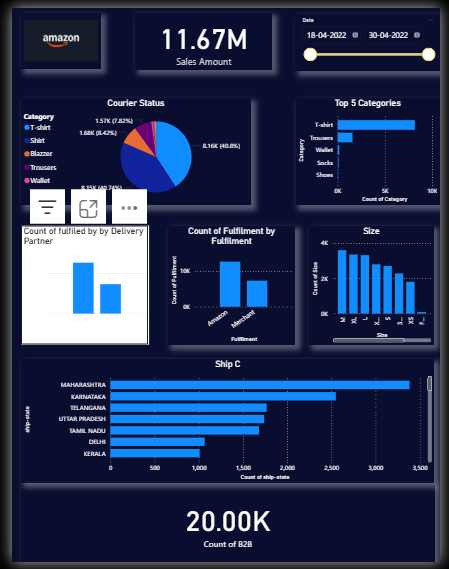

The page's visual inventory and layout, read from the dashboard file:
{"tool":"powerbi","page":{"name":"Page 1","canvas":[816,1056],"ordinal":0},"visuals":[{"type":"image","box":[16.3,9.8,152.2,107.6],"z":0},{"type":"card","fields":{"Values":["Sum(Amazon Sale Report (2).Amount)"]},"box":[235,8.8,261.2,108.8],"z":1000},{"type":"slicer","fields":{"Values":["Amazon Sale Report (2).Date"]},"box":[538.8,10,275,108.8],"z":2000},{"type":"barChart","title":"Top 5 Categories","fields":{"Category":["Amazon Sale Report (2).Category"],"Y":["CountNonNull(Amazon Sale Report (2).Category)"]},"box":[538.8,171.2,275,203.8],"z":3000},{"type":"pieChart","title":"Courier Status","fields":{"Category":["Amazon Sale Report (2).Category"],"Y":["CountNonNull(Amazon Sale Report (2).Category)"]},"box":[16.3,171.7,438,204.3],"z":4000},{"type":"columnChart","fields":{"Category":["Amazon Sale Report (2).fulfilled-by"],"Y":["CountNonNull(Amazon Sale Report (2).fulfilled-by)"]},"box":[16.2,413.8,243.8,227.5],"z":5000},{"type":"columnChart","fields":{"Category":["Amazon Sale Report (2).Fulfilment"],"Y":["CountNonNull(Amazon Sale Report (2).Fulfilment)"]},"box":[296.2,413.8,242.5,227.5],"z":6000},{"type":"columnChart","title":"Size","fields":{"Category":["Amazon Sale Report (2).Size"],"Y":["CountNonNull(Amazon Sale Report (2).Size)"]},"box":[566.2,413.8,237.5,227.5],"z":7000},{"type":"barChart","title":"Ship C","fields":{"Category":["Amazon Sale Report (2).ship-state"],"Y":["CountNonNull(Amazon Sale Report (2).ship-state)"]},"box":[16.2,667.5,787.5,235],"z":8000},{"type":"card","fields":{"Values":["CountNonNull(Amazon Sale Report (2).B2B)"]},"box":[16,906,788,150],"z":9000}]}

Visuals, with their boxes in screenshot pixels (x1, y1, x2, y2), scaled from the page's 816x1056 canvas onto the 449x569 screenshot:
image: bbox=(9, 5, 93, 63)
card - Sum(Amazon Sale Report (2).Amount): bbox=(129, 5, 273, 63)
slicer - Amazon Sale Report (2).Date: bbox=(296, 5, 448, 64)
"Top 5 Categories" barChart: bbox=(296, 92, 448, 202)
"Courier Status" pieChart: bbox=(9, 93, 250, 203)
columnChart - Amazon Sale Report (2).fulfilled-by x CountNonNull(Amazon Sale Report (2).fulfilled-by): bbox=(9, 223, 143, 346)
columnChart - Amazon Sale Report (2).Fulfilment x CountNonNull(Amazon Sale Report (2).Fulfilment): bbox=(163, 223, 296, 346)
"Size" columnChart: bbox=(312, 223, 442, 346)
"Ship C" barChart: bbox=(9, 360, 442, 486)
card - CountNonNull(Amazon Sale Report (2).B2B): bbox=(9, 488, 442, 568)
